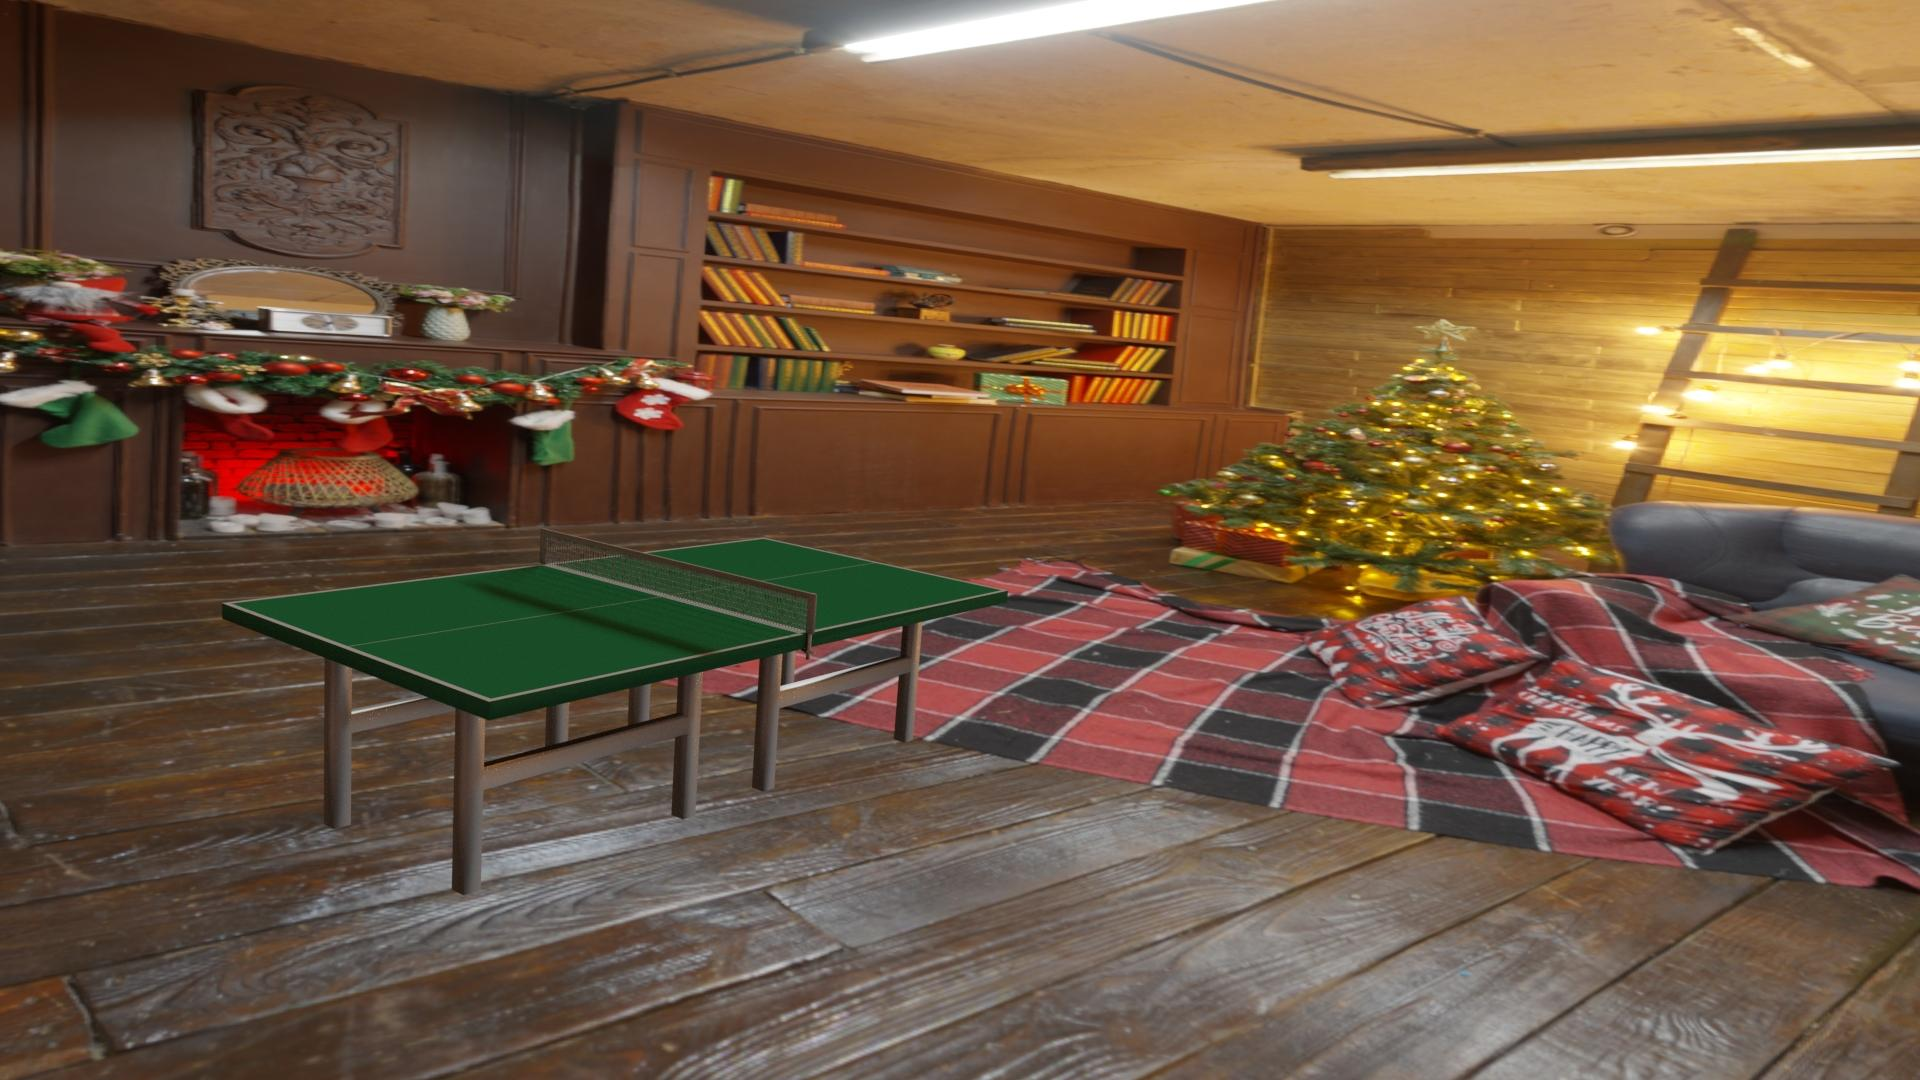table: (231, 538, 1002, 699)
